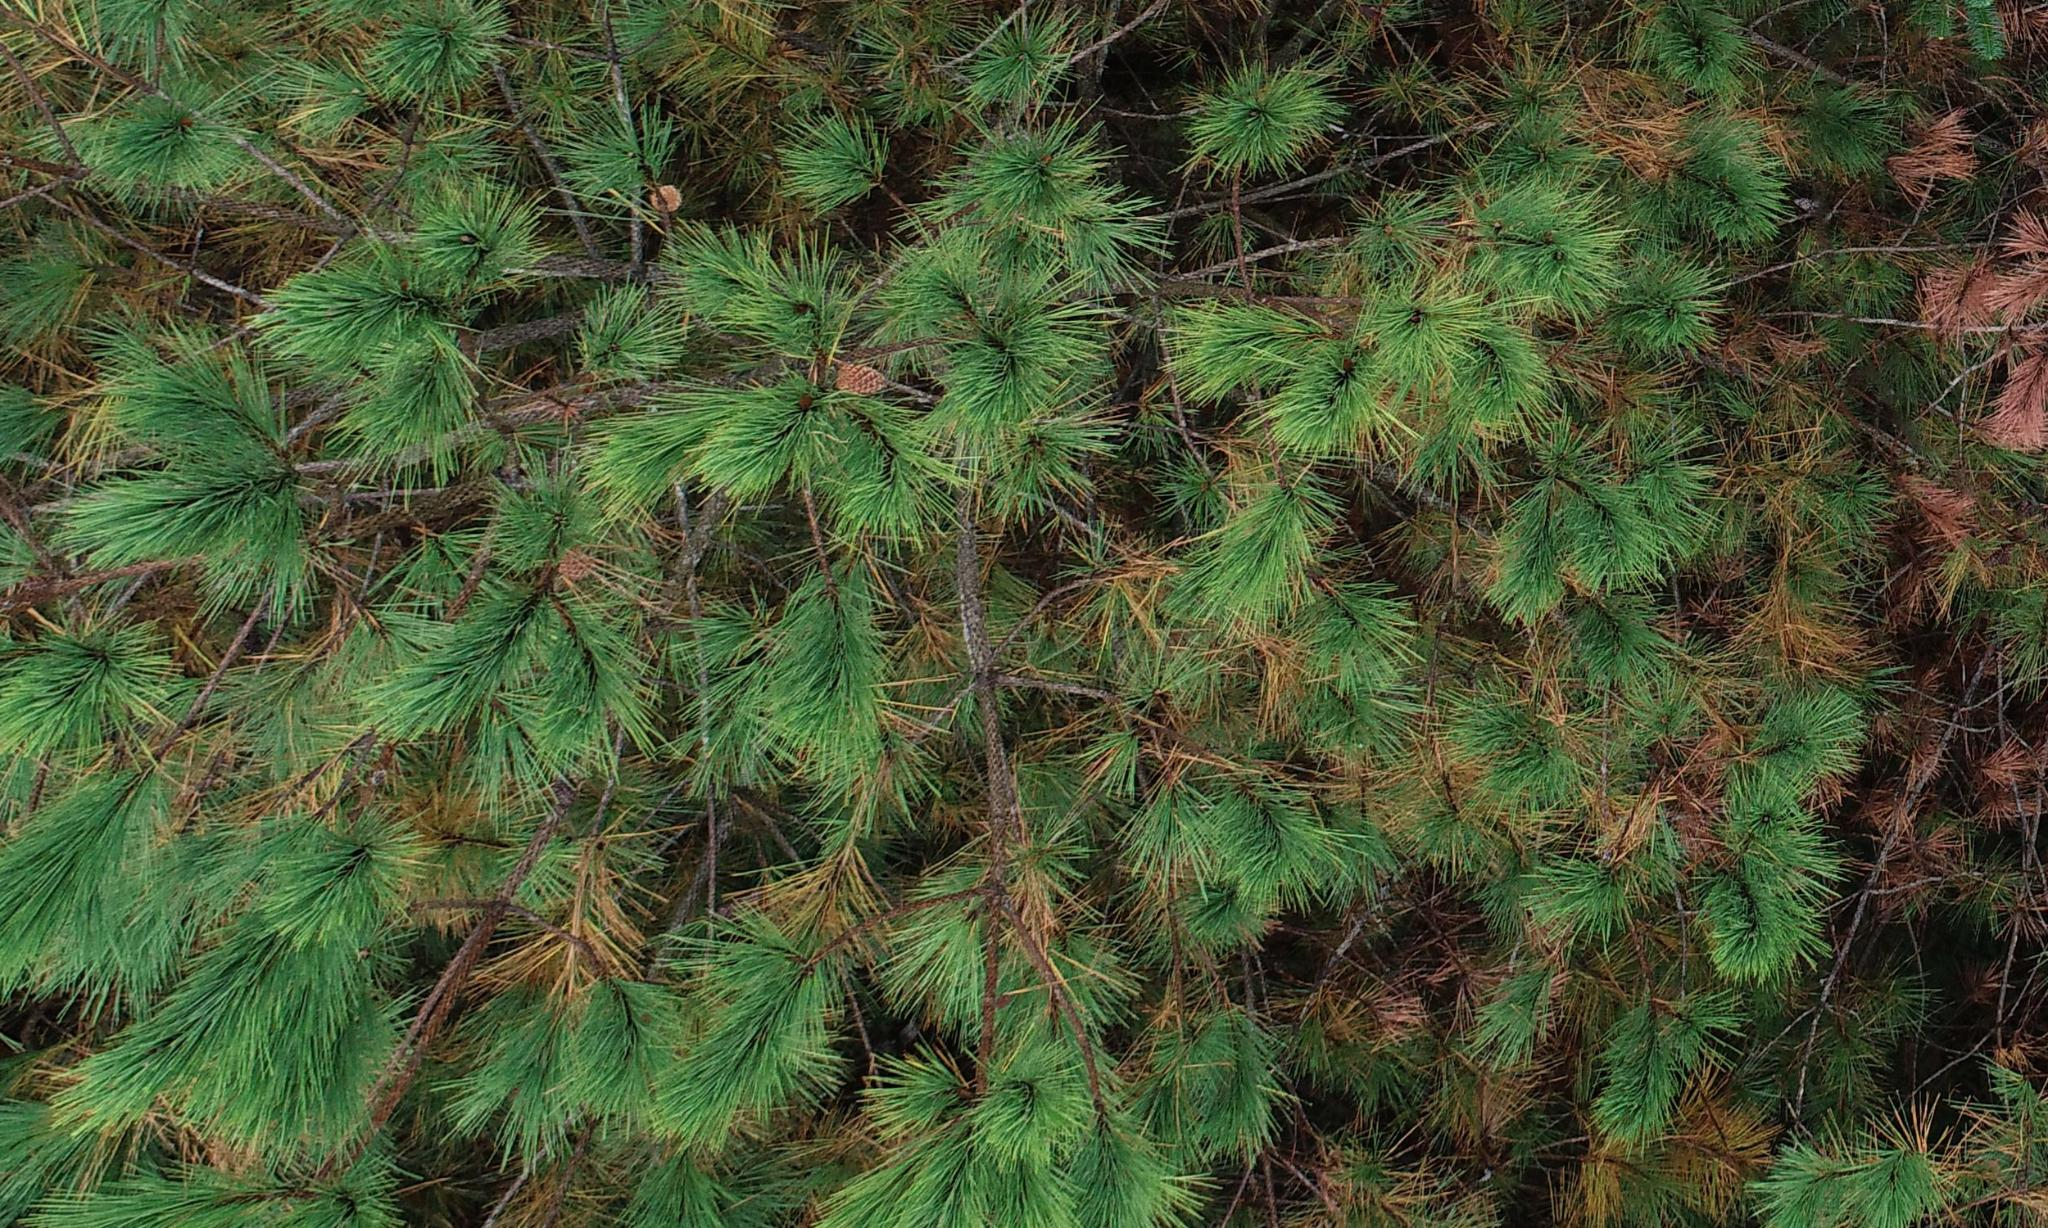light: (19, 12, 2030, 1216)
